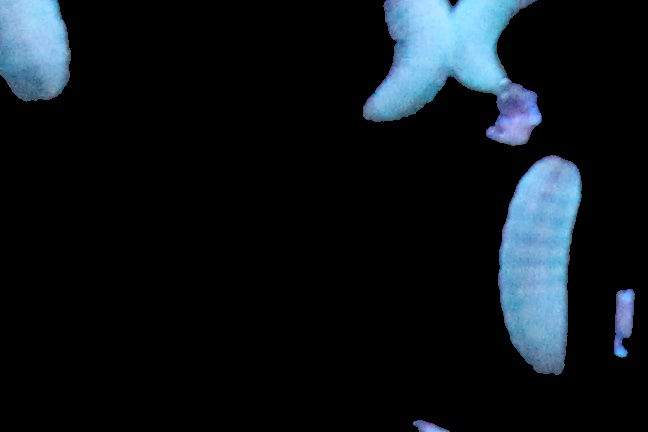larvae: (496, 155, 586, 376), (363, 1, 446, 124), (445, 1, 541, 92), (1, 1, 72, 104)
